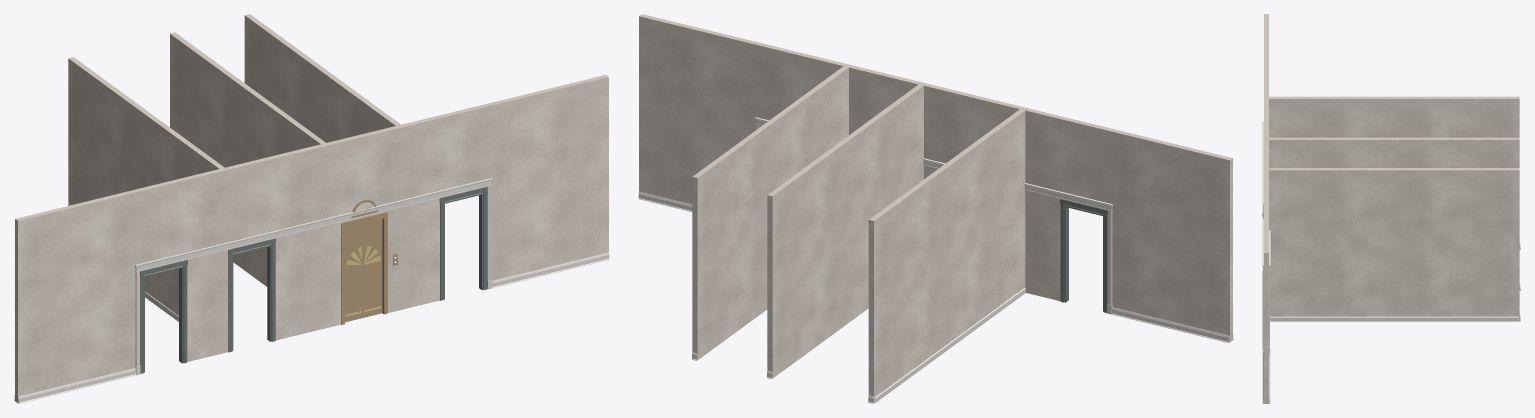
The model's file is plan_0.glb.
The picture shows the model from 3 angles, left to right: view 1: azimuth 30°, elevation 25°; view 2: azimuth 150°, elevation 25°; view 3: azimuth 270°, elevation 25°; orthographic projection. The views are drawn at different scales.
Visible parts, largest first — view 1: plan_0_plaster, molduras, plan_0_frame, plan_0_bronze; view 2: plan_0_plaster, molduras, plan_0_frame, plan_0_trim; view 3: plan_0_plaster, plan_0_trim, molduras.
Part boxes in pixels (x1,y1,x2,y2): plan_0_plaster: (15,14,608,402); molduras: (14,178,609,403); plan_0_frame: (140,187,487,373); plan_0_bronze: (341,199,397,324); plan_0_plaster: (639,14,1232,402); molduras: (638,117,1233,403); plan_0_frame: (760,126,1107,312); plan_0_trim: (874,288,1025,402); plan_0_plaster: (1264,14,1519,403); plan_0_trim: (1270,316,1518,321); molduras: (1262,121,1520,403).
Bounding box in the file's own units: 13.4 × 3.95 × 6.13.
Materials: 8 (1 with a texture image).
